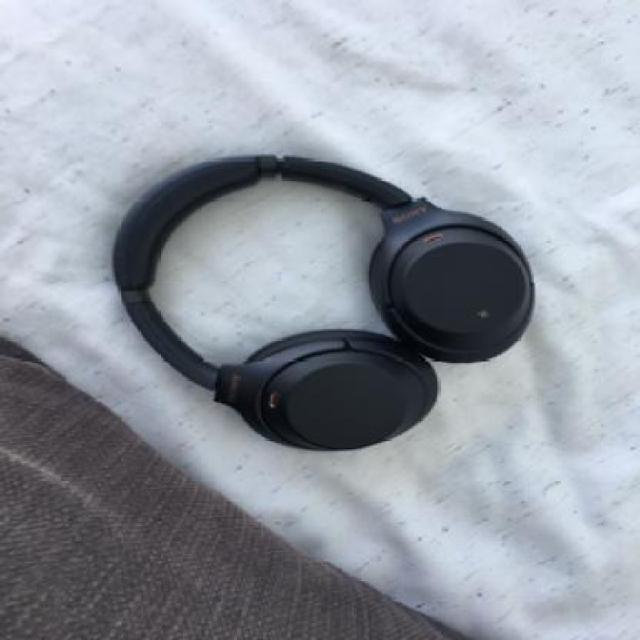earphone: (92, 75, 530, 488)
